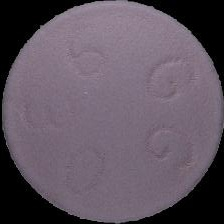0781-1064: (0, 0, 224, 224)
